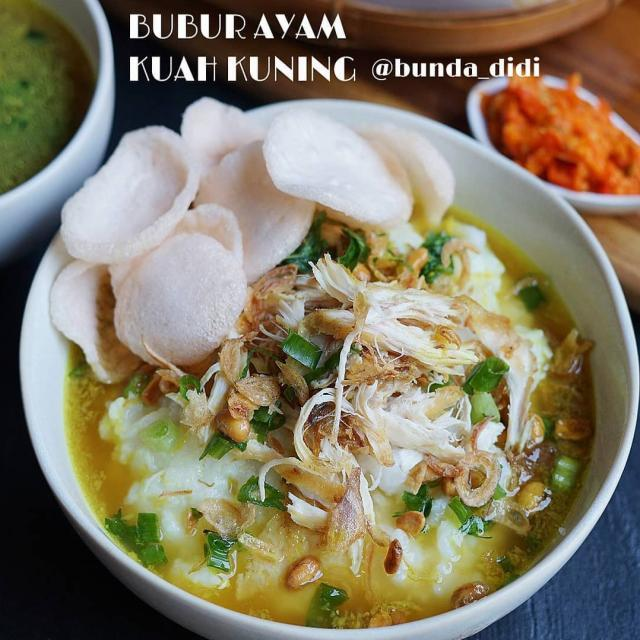bubur ayam: (49, 95, 596, 626)
mangkuk: (15, 94, 638, 640), (0, 1, 115, 267), (466, 71, 640, 215)
sambal: (483, 73, 640, 194)
